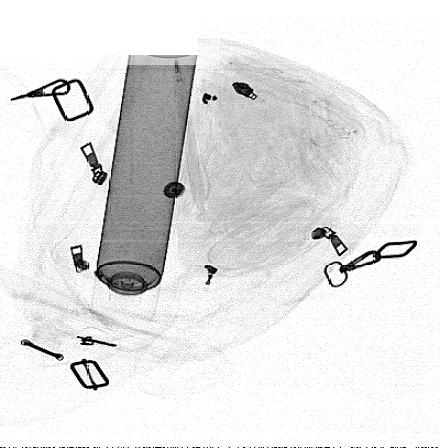Sprayer: (89, 53, 198, 329)
